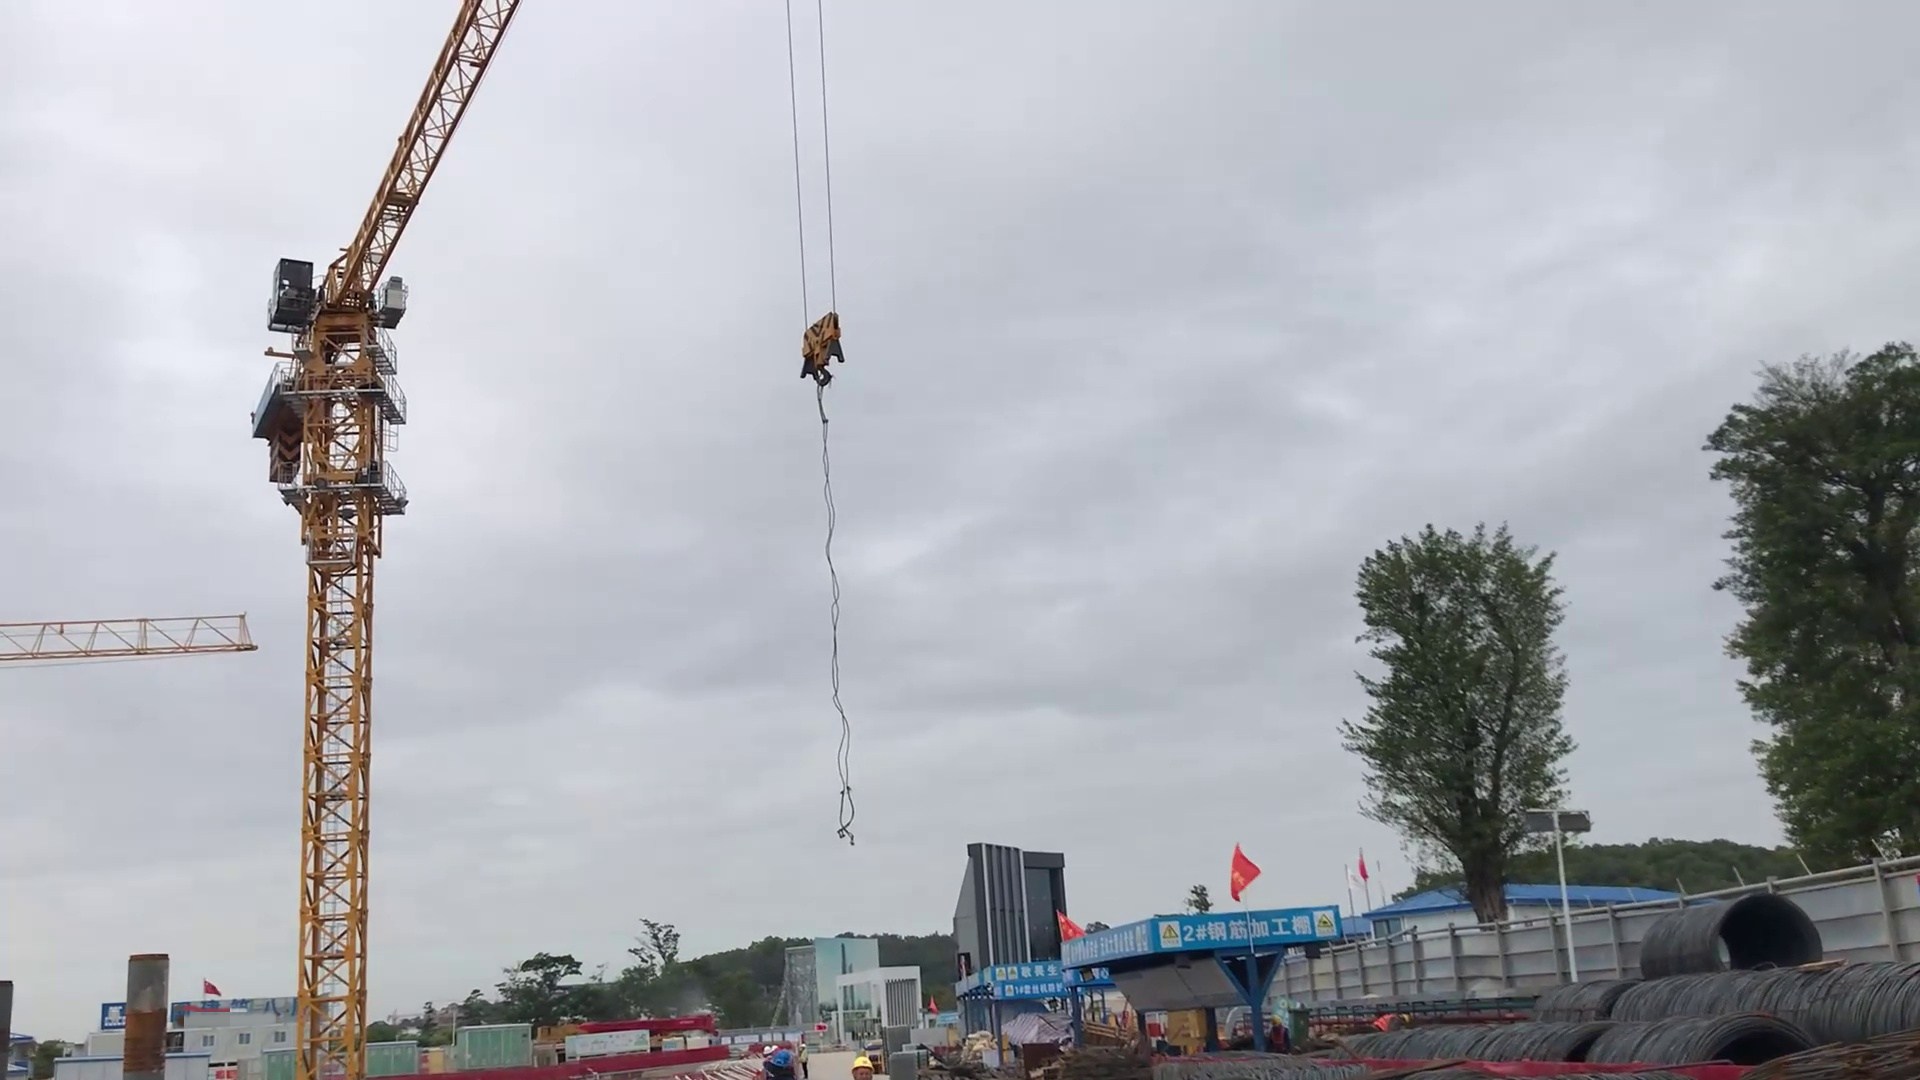hook: (781, 301, 861, 400)
